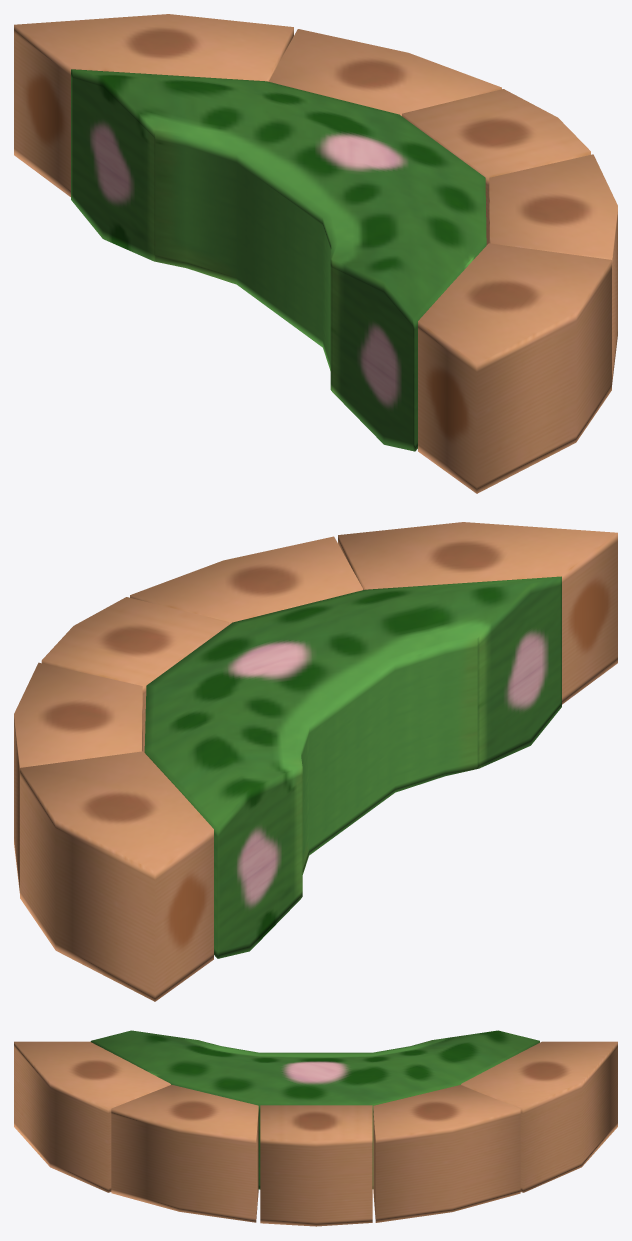
The model's file is Parenkimhalf.fbx.
3 renders of one model, top to bottom at view 1: azimuth 30°, elevation 25°; view 2: azimuth 150°, elevation 25°; view 3: azimuth 270°, elevation 25°, orthographic. The views are drawn at different scales.
Visible parts, largest first — view 1: ParenkimAftercombhalf; view 2: ParenkimAftercombhalf; view 3: ParenkimAftercombhalf.
Part boxes in pixels (x1=…): ParenkimAftercombhalf: x1=14, y1=14, x2=617, y2=493; ParenkimAftercombhalf: x1=14, y1=522, x2=617, y2=1001; ParenkimAftercombhalf: x1=14, y1=1030, x2=617, y2=1226.
Bounding box in the file's own units: 94.51 × 46.42 × 240.
1 material, 1 textured.
